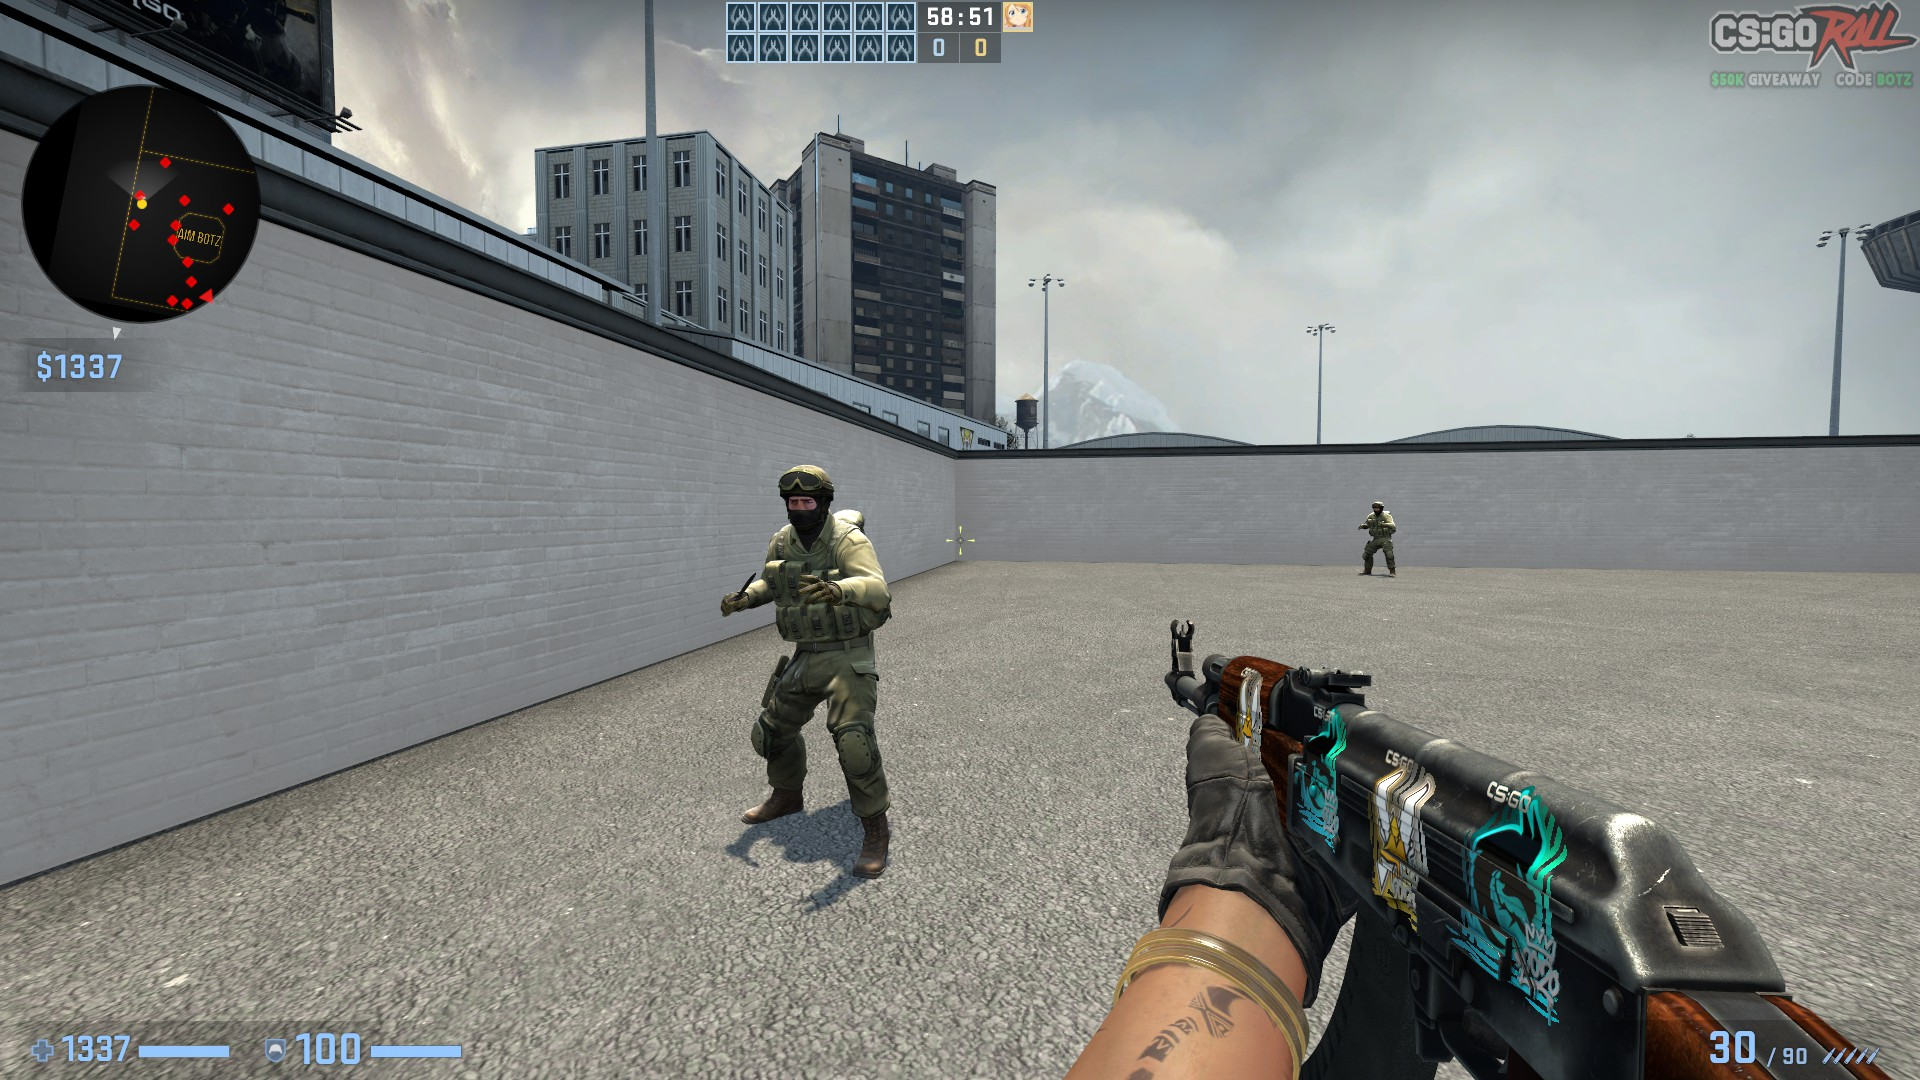head: (777, 463, 831, 526), (1370, 500, 1384, 515)
